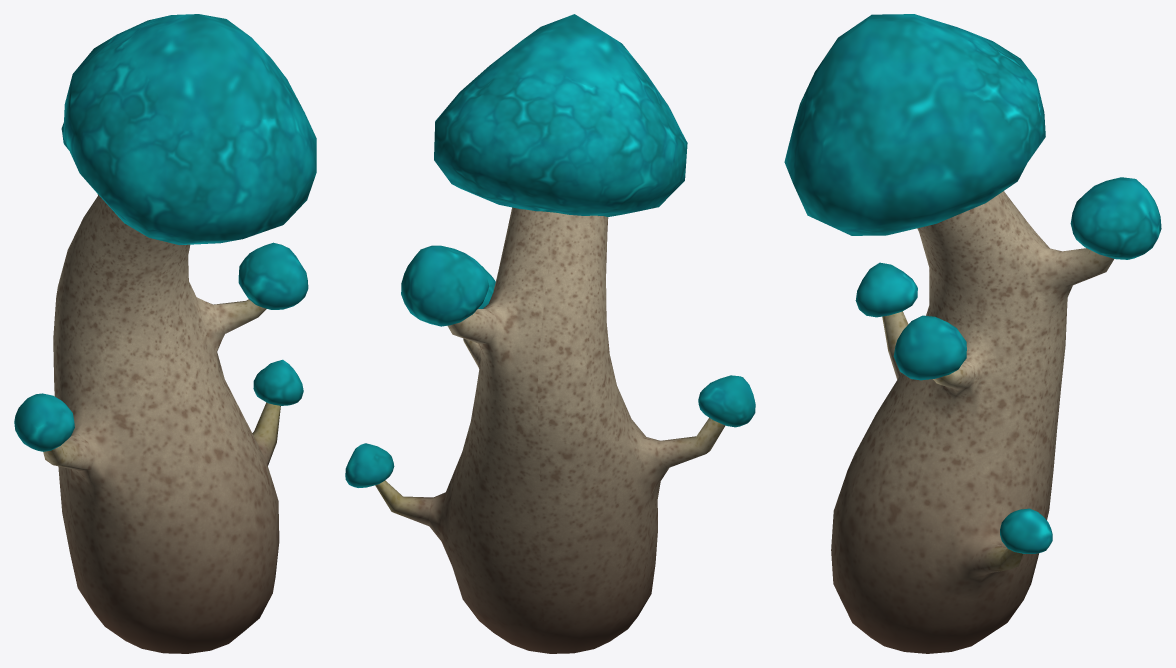
File: grosChampignon.fbx
The picture shows the model from 3 angles, left to right: view 1: azimuth 30°, elevation 25°; view 2: azimuth 150°, elevation 25°; view 3: azimuth 270°, elevation 25°; orthographic projection. The views are drawn at different scales.
Visible parts, largest first — view 1: grosChampignon_LOD0; view 2: grosChampignon_LOD0; view 3: grosChampignon_LOD0.
Boxes of the visible parts, x1,y1,x2,y2 form: grosChampignon_LOD0: (14, 14, 316, 653); grosChampignon_LOD0: (345, 14, 755, 653); grosChampignon_LOD0: (784, 14, 1161, 653).
Size of what is drawn, in the model's own units: 492 by 831 by 463.
